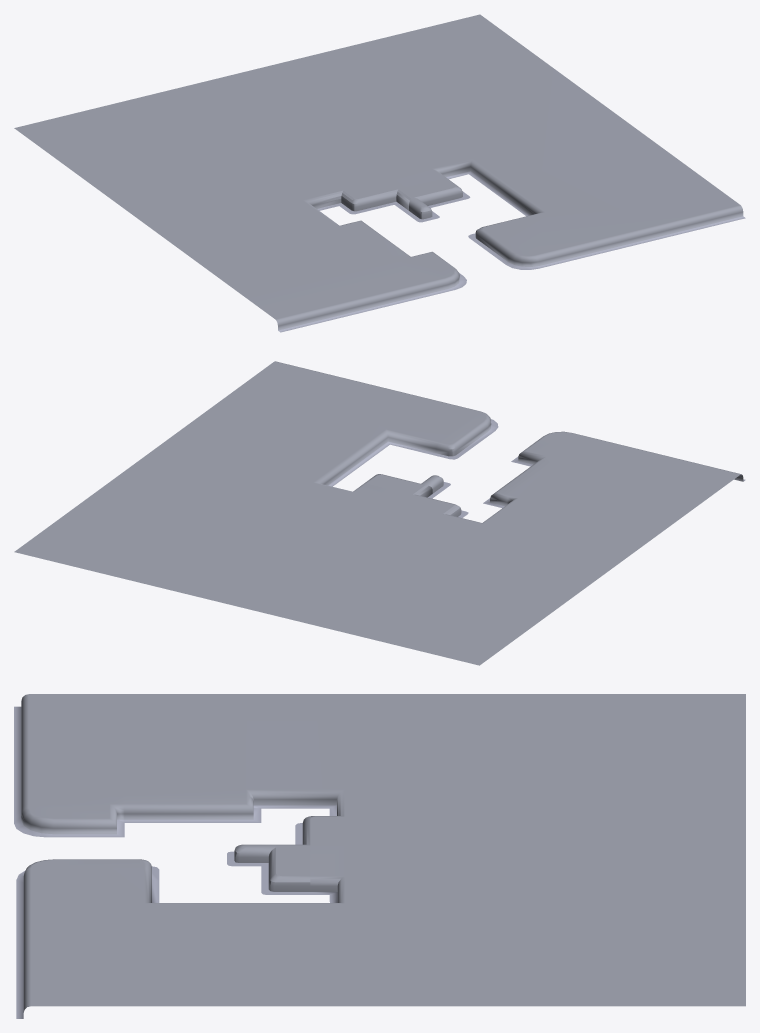
The picture shows the model from 3 angles, top to bottom: view 1: azimuth 30°, elevation 25°; view 2: azimuth 150°, elevation 25°; view 3: azimuth 270°, elevation 25°; orthographic projection. The views are drawn at different scales.
Visible parts, largest first — view 1: L37; view 2: L37; view 3: L37.
Part boxes in pixels (bbox=[...]): L37: bbox=[14, 14, 745, 332]; L37: bbox=[14, 361, 745, 665]; L37: bbox=[14, 694, 745, 1018].
Bounding box in the file's own units: 2703 × 51.03 × 2679.
